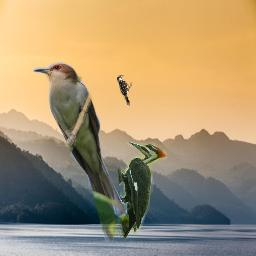Cuckoo: (33, 62, 129, 244)
Woodpecker: (118, 142, 167, 239), (117, 75, 132, 106)
